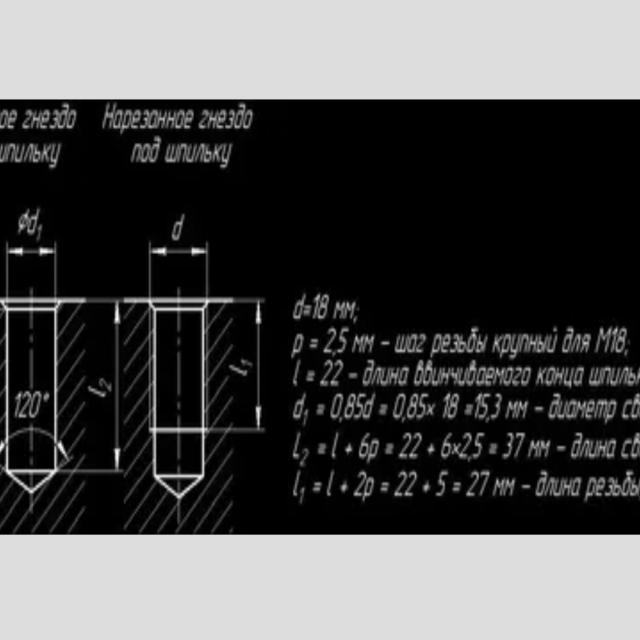marking_line: (59, 295, 122, 475), (235, 297, 268, 433), (147, 243, 209, 296), (5, 241, 58, 298)
numeric: (322, 326, 338, 354), (392, 392, 406, 420), (459, 431, 472, 461), (30, 391, 44, 418), (330, 359, 343, 388), (476, 468, 489, 497), (400, 431, 413, 459), (405, 469, 418, 497), (18, 389, 29, 421), (345, 391, 357, 420), (318, 293, 331, 319), (435, 470, 448, 496), (466, 470, 479, 496), (353, 470, 365, 498), (473, 430, 485, 458), (503, 431, 514, 461), (319, 360, 331, 387), (407, 392, 419, 419), (331, 393, 343, 420), (410, 432, 422, 459), (355, 391, 366, 420), (394, 469, 405, 498), (357, 430, 368, 459), (491, 393, 503, 419), (417, 392, 429, 418), (441, 432, 453, 458), (338, 326, 349, 354), (449, 393, 460, 421), (515, 431, 525, 460), (616, 326, 627, 352), (480, 393, 490, 419), (13, 392, 21, 424), (312, 292, 320, 321), (610, 326, 618, 352), (299, 445, 308, 467), (99, 378, 113, 390), (444, 393, 450, 420), (240, 357, 254, 367), (474, 395, 480, 418), (298, 487, 305, 505), (302, 408, 309, 425), (36, 226, 43, 241)
special_symbol: (18, 208, 29, 232), (305, 368, 317, 385), (384, 440, 395, 458), (379, 401, 391, 415), (381, 480, 392, 494), (312, 480, 323, 494), (315, 405, 327, 417), (464, 403, 474, 416), (319, 441, 326, 458), (490, 443, 498, 455), (310, 338, 319, 348), (44, 390, 50, 403)
